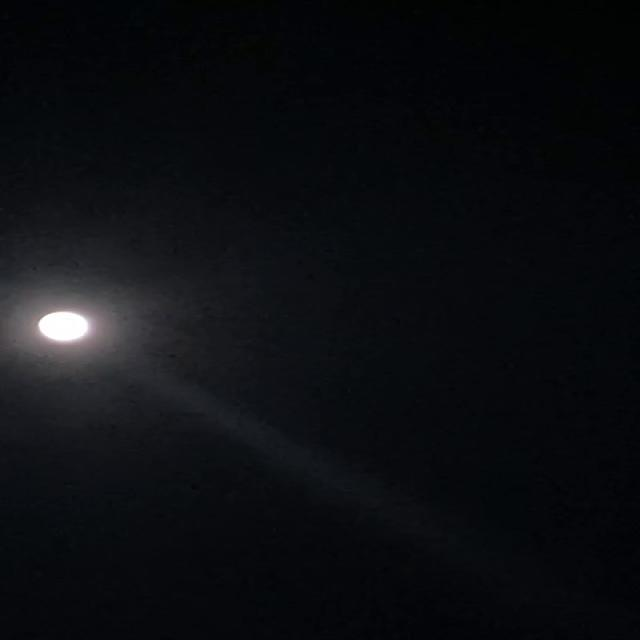moon: (17, 300, 108, 346)
